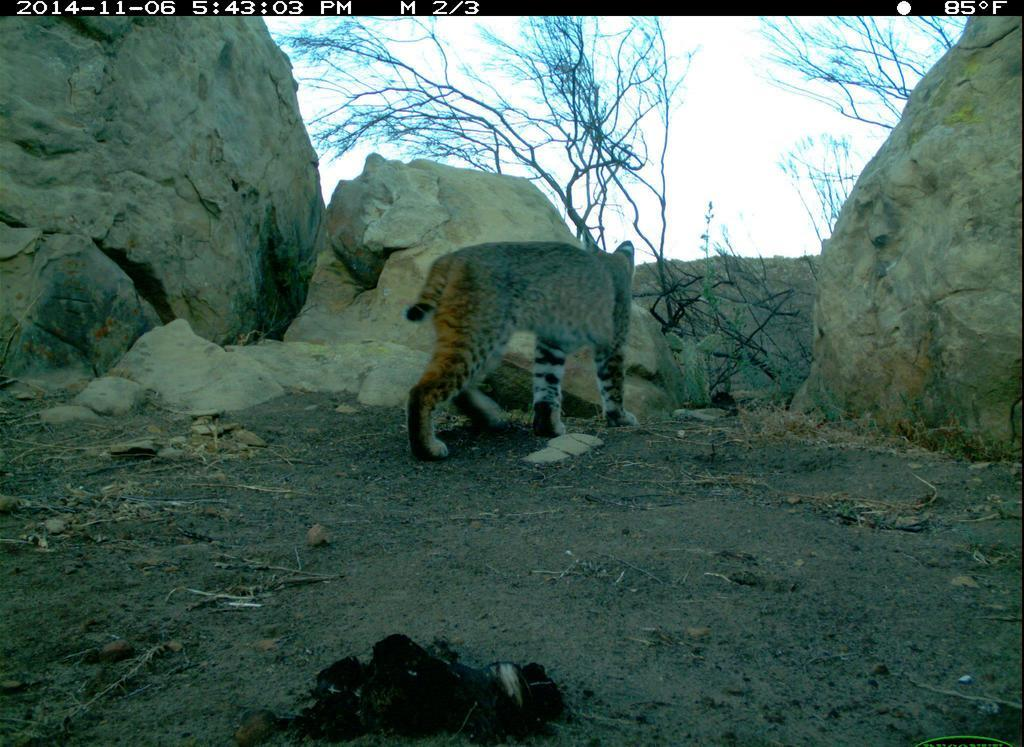bobcat: (396, 237, 643, 465)
